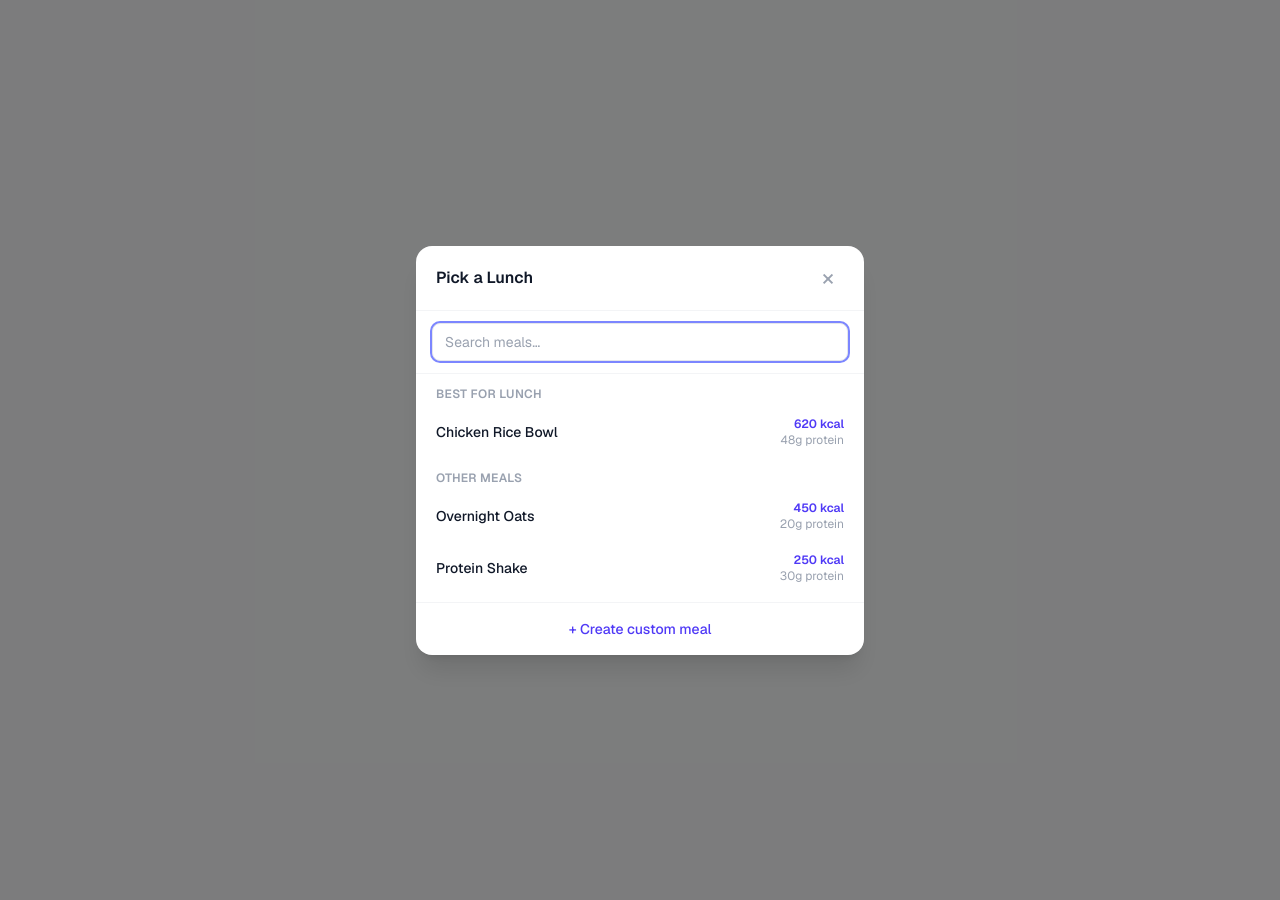
MealPicker › shows empty state when search has no matches
The image size is (1280, 900).
Type "zzznomatch" into the search field with placeholder "Search meals…" at {"x": 640, "y": 342}, box [432,322,848,360]
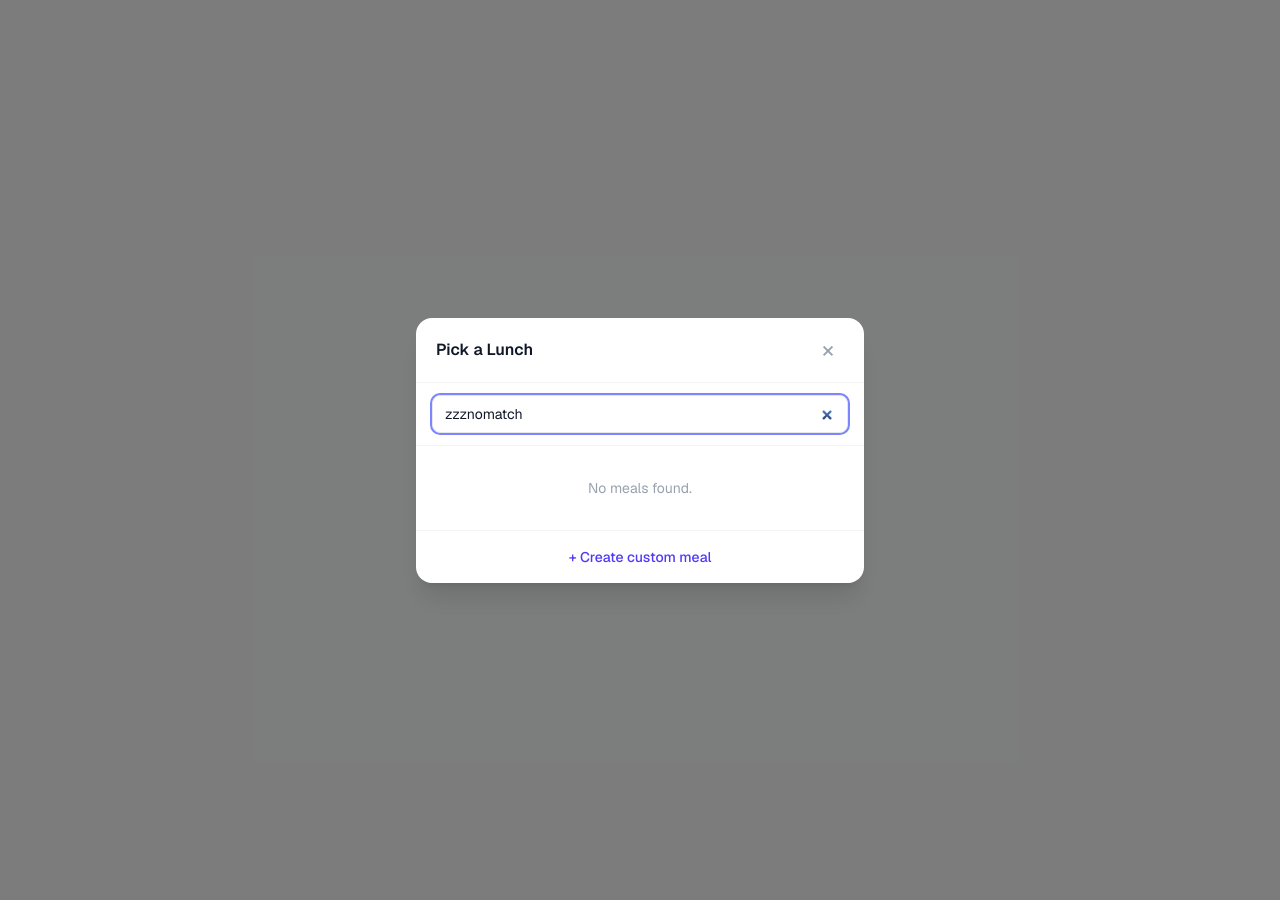
Now the text "No meals found." is shown, box [588,478,692,496]
